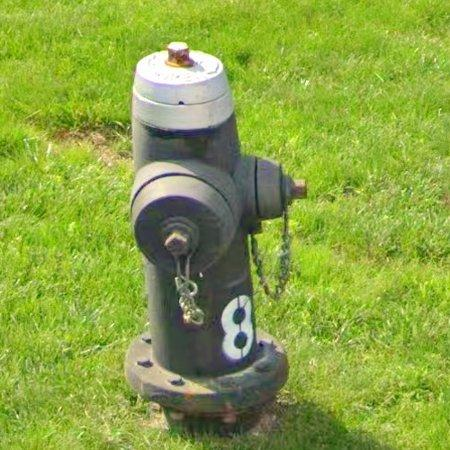a fire hydrant: (126, 42, 307, 433)
